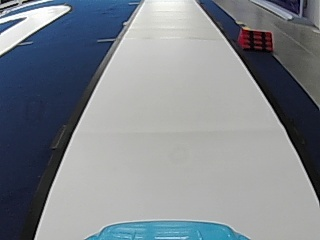bomb: (235, 27, 273, 50)
